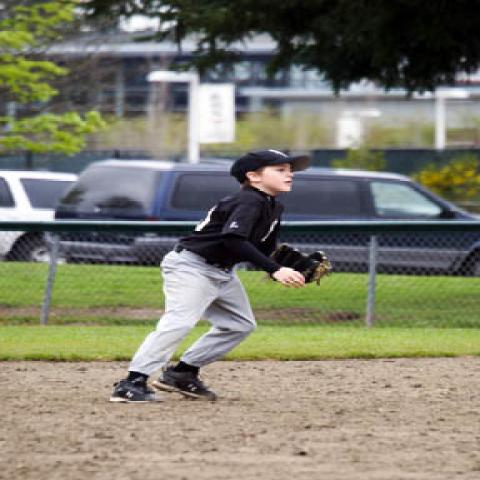car: (52, 159, 478, 278), (0, 171, 67, 267)
